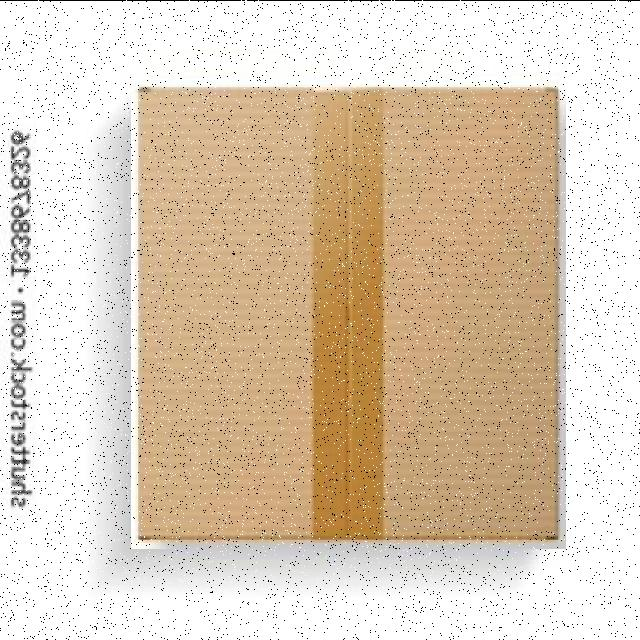normal: (131, 81, 566, 548)
